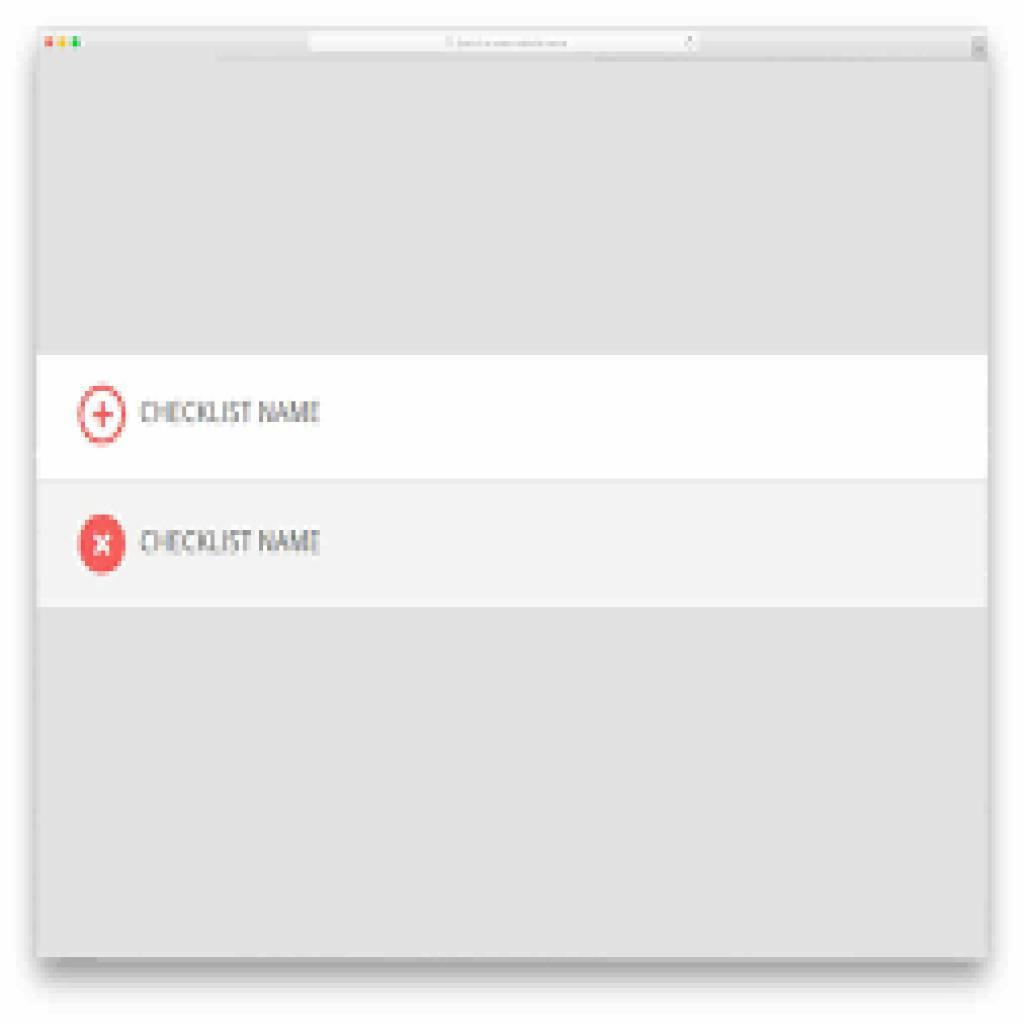radio: (80, 511, 132, 577), (73, 388, 127, 449)
